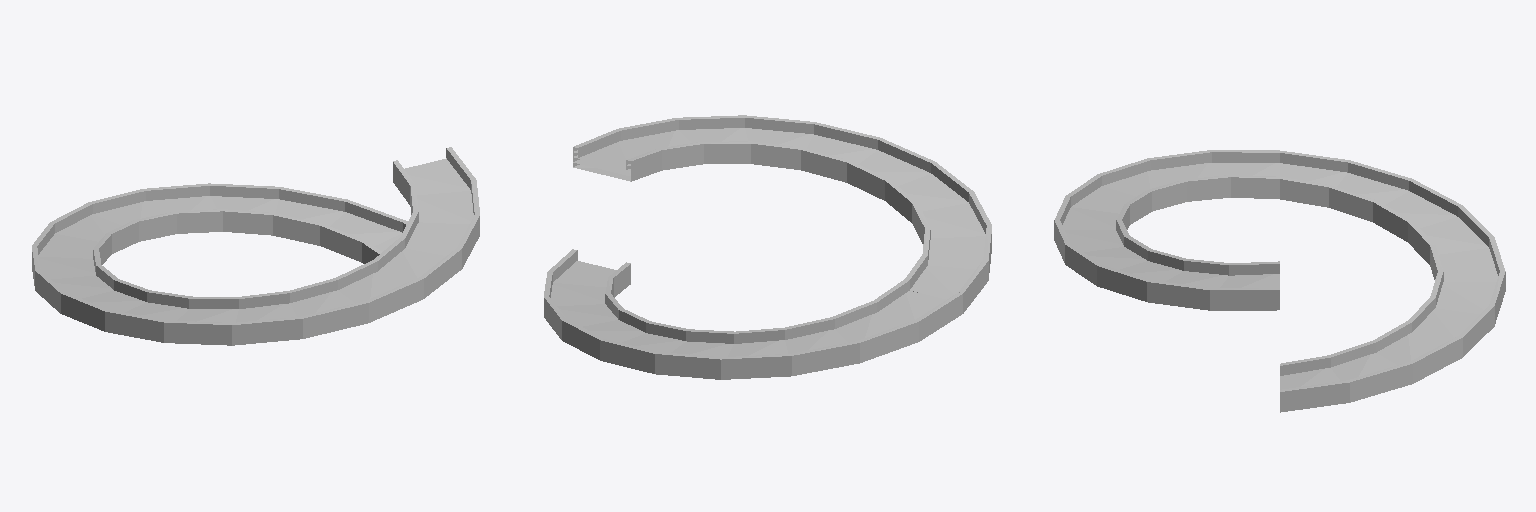
Rendered from L - Spiral.obj.
3 views of the same model, side by side, from view 1: azimuth 30°, elevation 25°; view 2: azimuth 150°, elevation 25°; view 3: azimuth 270°, elevation 25° (orthographic).
Visible parts, largest first — view 1: polySurface16; view 2: polySurface16; view 3: polySurface16.
Part boxes in pixels (left/top/right/bottom): polySurface16: left=32, top=147, right=479, bottom=345; polySurface16: left=544, top=115, right=991, bottom=379; polySurface16: left=1054, top=150, right=1505, bottom=412.
Bounding box in the file's own units: 400 × 120 × 400.